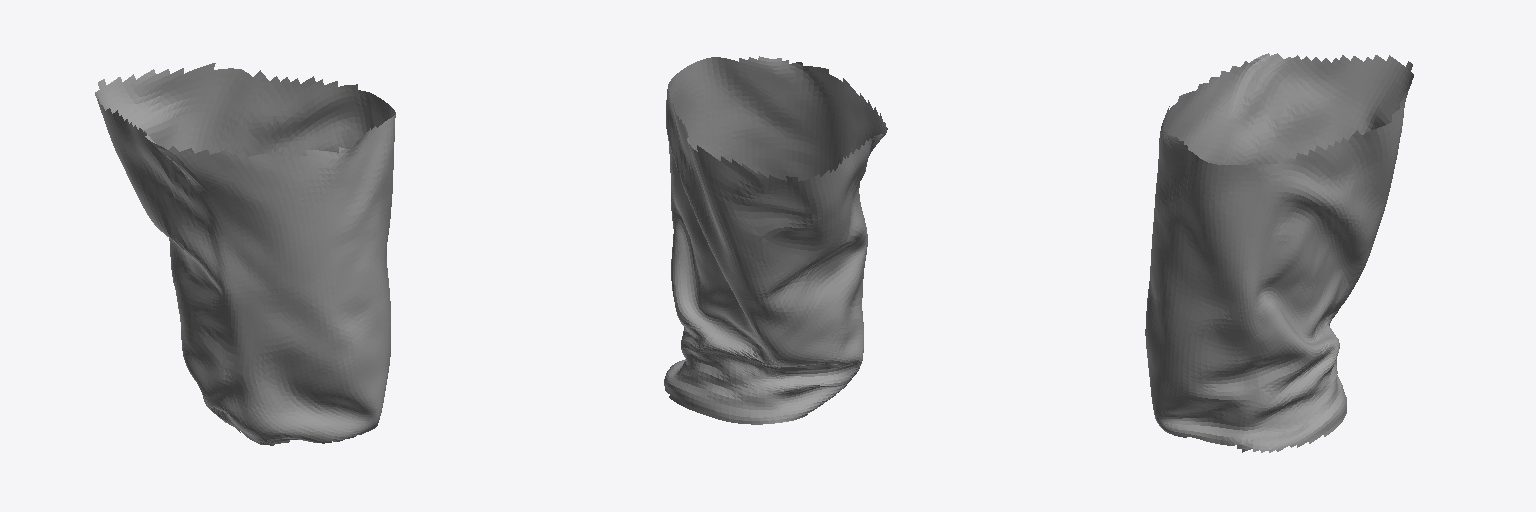
File: musloizq.obj
3 views of the same model, side by side, from view 1: azimuth 30°, elevation 25°; view 2: azimuth 150°, elevation 25°; view 3: azimuth 270°, elevation 25° (orthographic).
Parts seen in each view (by area): view 1: RUST_3d_Low.001_RUST_3d_Low.002; view 2: RUST_3d_Low.001_RUST_3d_Low.002; view 3: RUST_3d_Low.001_RUST_3d_Low.002.
Boxes of the visible parts, box(x1,y1,x2,y2) form: RUST_3d_Low.001_RUST_3d_Low.002: box(95, 63, 395, 445); RUST_3d_Low.001_RUST_3d_Low.002: box(664, 56, 887, 424); RUST_3d_Low.001_RUST_3d_Low.002: box(1145, 53, 1413, 452).
Size of the model in its own units: 18.34 by 23.22 by 18.95.